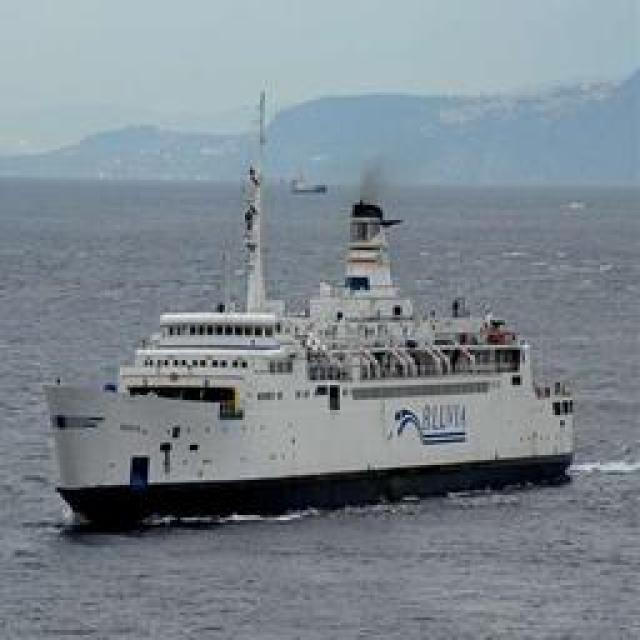ship2: (42, 87, 576, 532)
